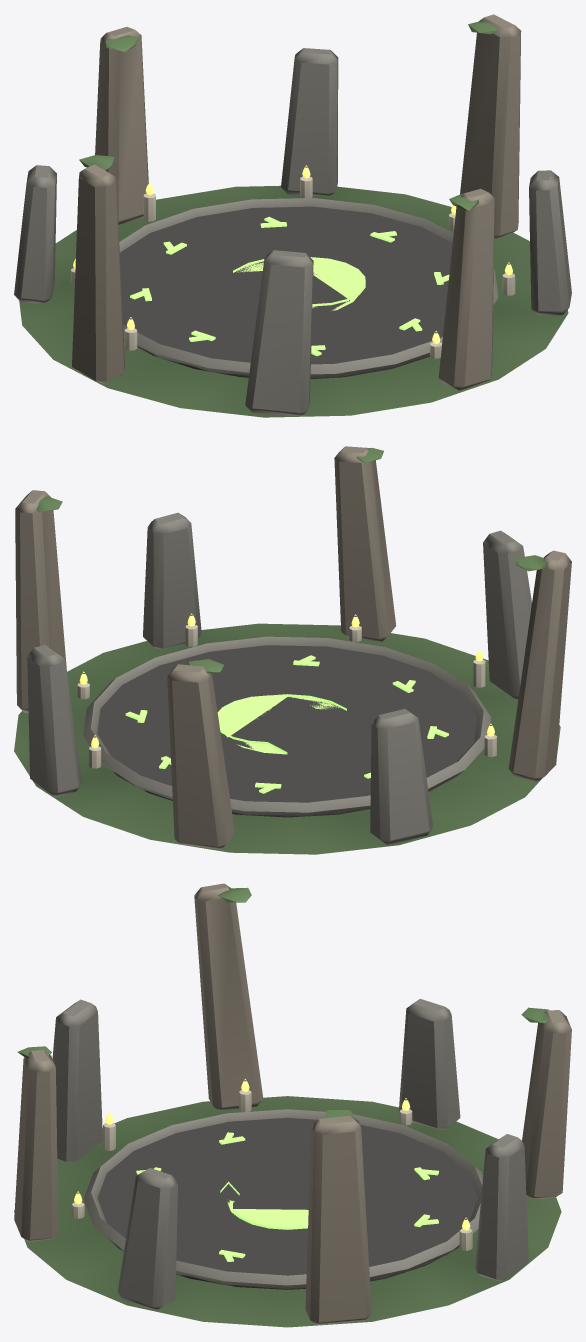
File: circle_seance.glb
3 views of the same model, one above another, from view 1: azimuth 30°, elevation 25°; view 2: azimuth 150°, elevation 25°; view 3: azimuth 270°, elevation 25° (orthographic).
Parts seen in each view (by area): view 1: circle_seance, glow; view 2: circle_seance, glow; view 3: circle_seance, glow.
Boxes of the visible parts, box(x1,y1,x2,y2) form: circle_seance: box(14, 14, 571, 417); glow: box(130, 216, 449, 356); circle_seance: box(14, 446, 571, 854); glow: box(125, 655, 448, 793); circle_seance: box(14, 883, 571, 1327); glow: box(136, 1132, 438, 1261).
Size of the model in its own units: 2.63 by 1.1 by 2.61.
